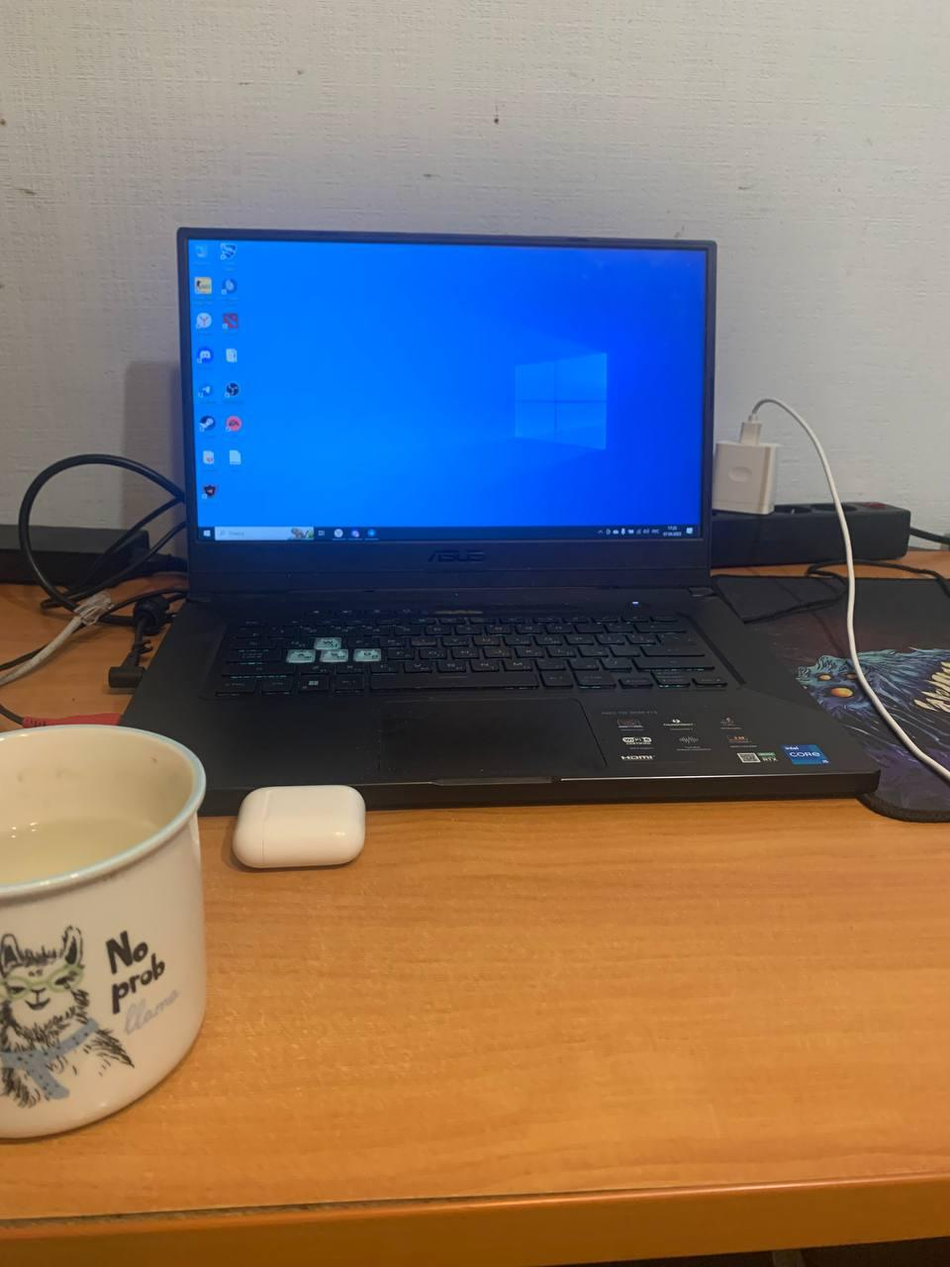monitor: (166, 214, 728, 598)
